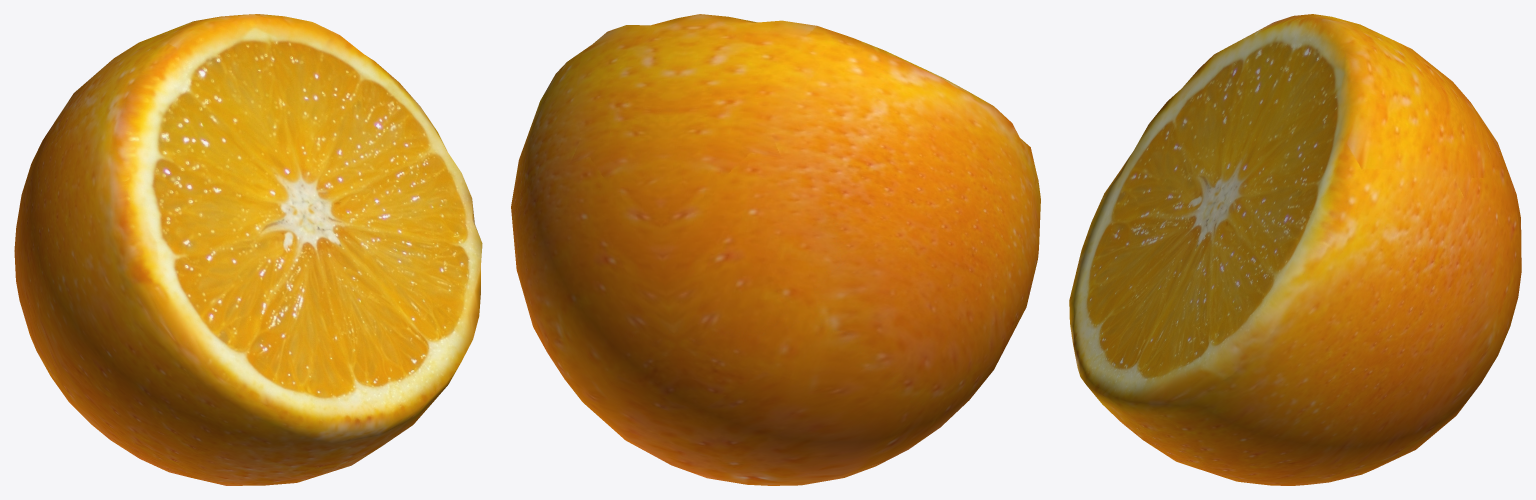
Rendered from orange.glb.
3 views of the same model, side by side, from view 1: azimuth 30°, elevation 25°; view 2: azimuth 150°, elevation 25°; view 3: azimuth 270°, elevation 25° (orthographic). The views are drawn at different scales.
Visible parts, largest first — view 1: Object_2; view 2: Object_2; view 3: Object_2.
Boxes of the visible parts, x1,y1,x2,y2 form: Object_2: (14,14,482,485); Object_2: (511,14,1040,485); Object_2: (1069,14,1521,485).
Bounding box in the file's own units: 0.626 × 0.6152 × 0.5962.
Materials: 1 (1 with a texture image).
